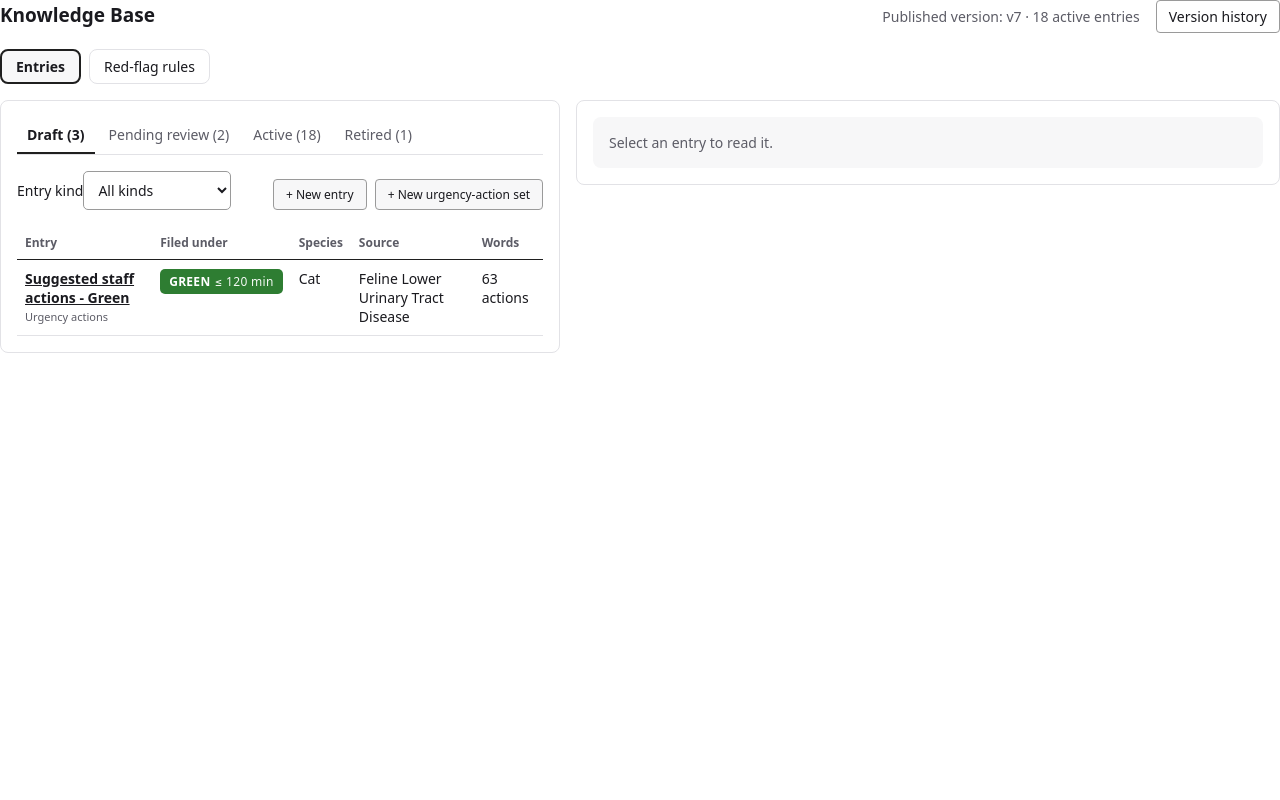
Test: retiring (FR-53, FR-54, FR-72, IR-08) › confirms first and reports the fallback warning
Step 1. Click the button "Suggested staff actions - Green" → (85,288), box [25,269,144,307]
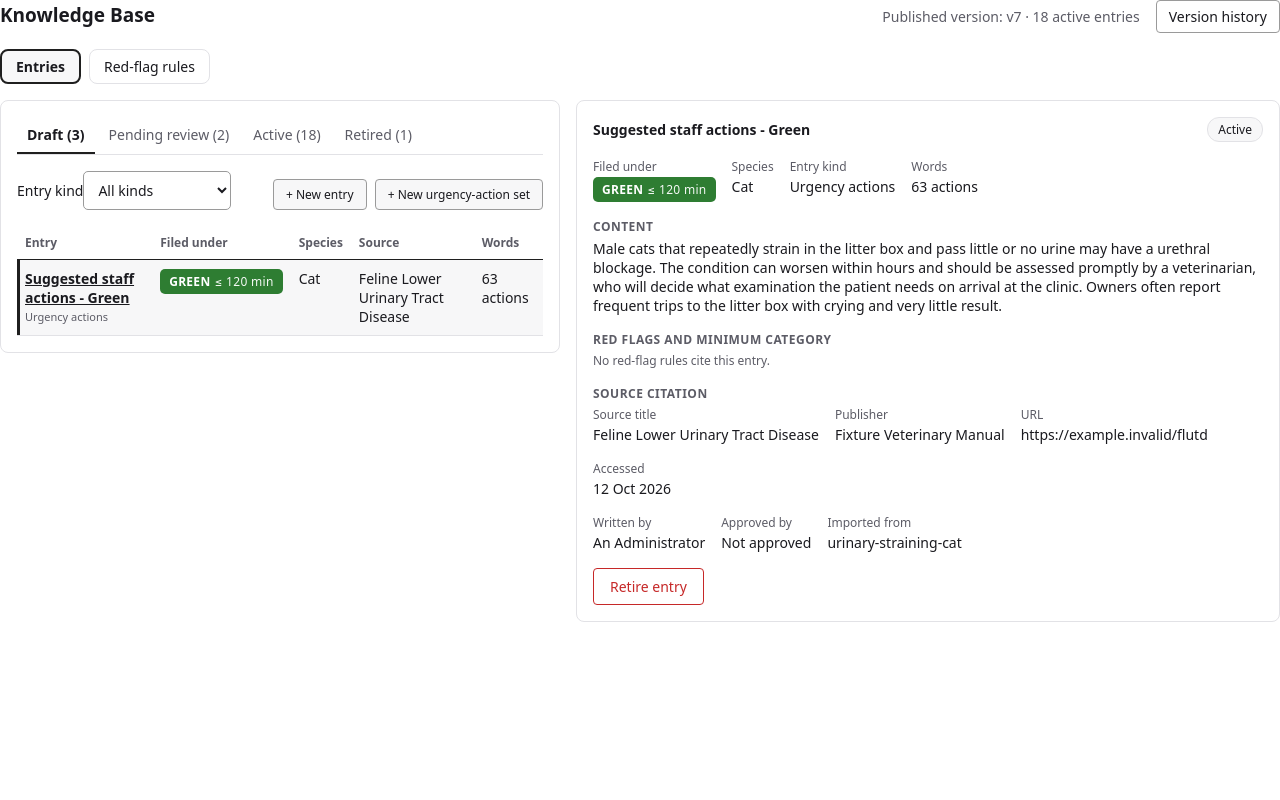
Step 2. Click the button "Retire entry" → (648,586), box [593,568,704,605]
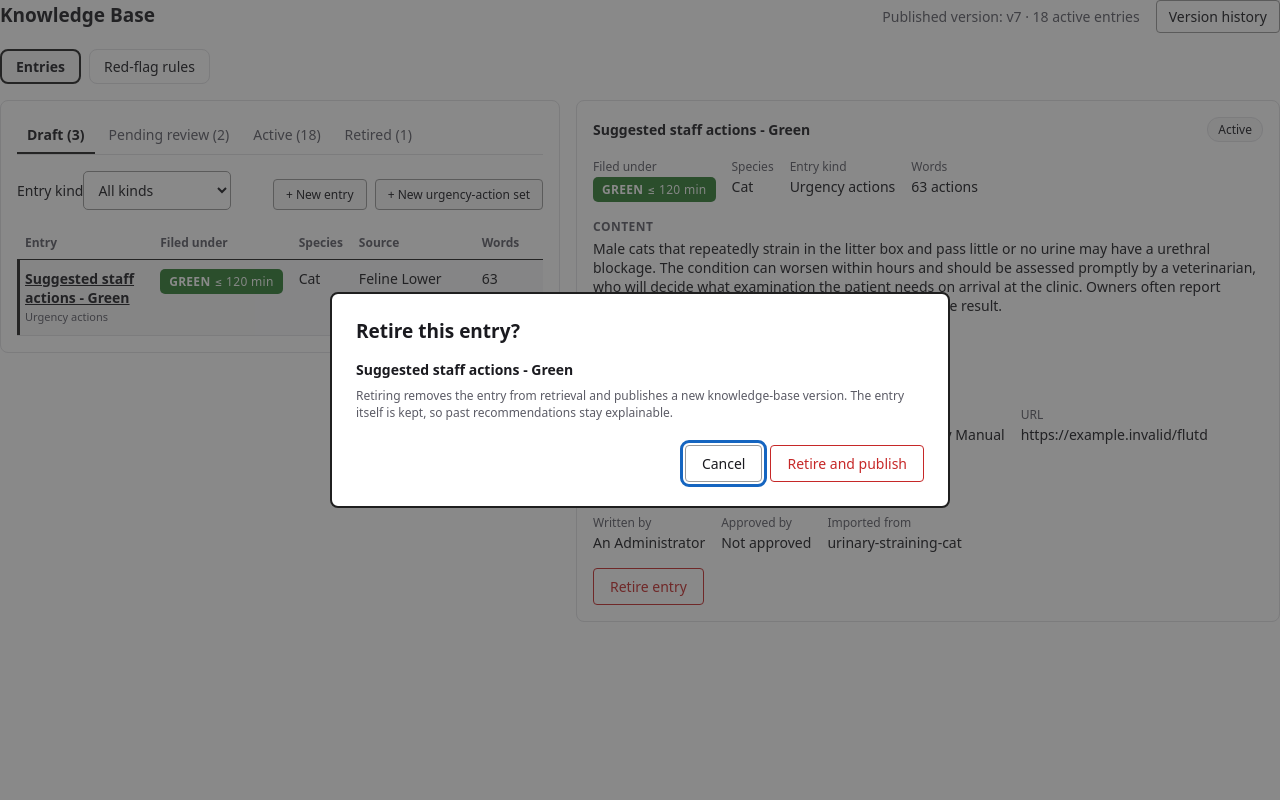
Step 3. Click the button "Retire and publish" → (847,464), box [770,445,924,482]
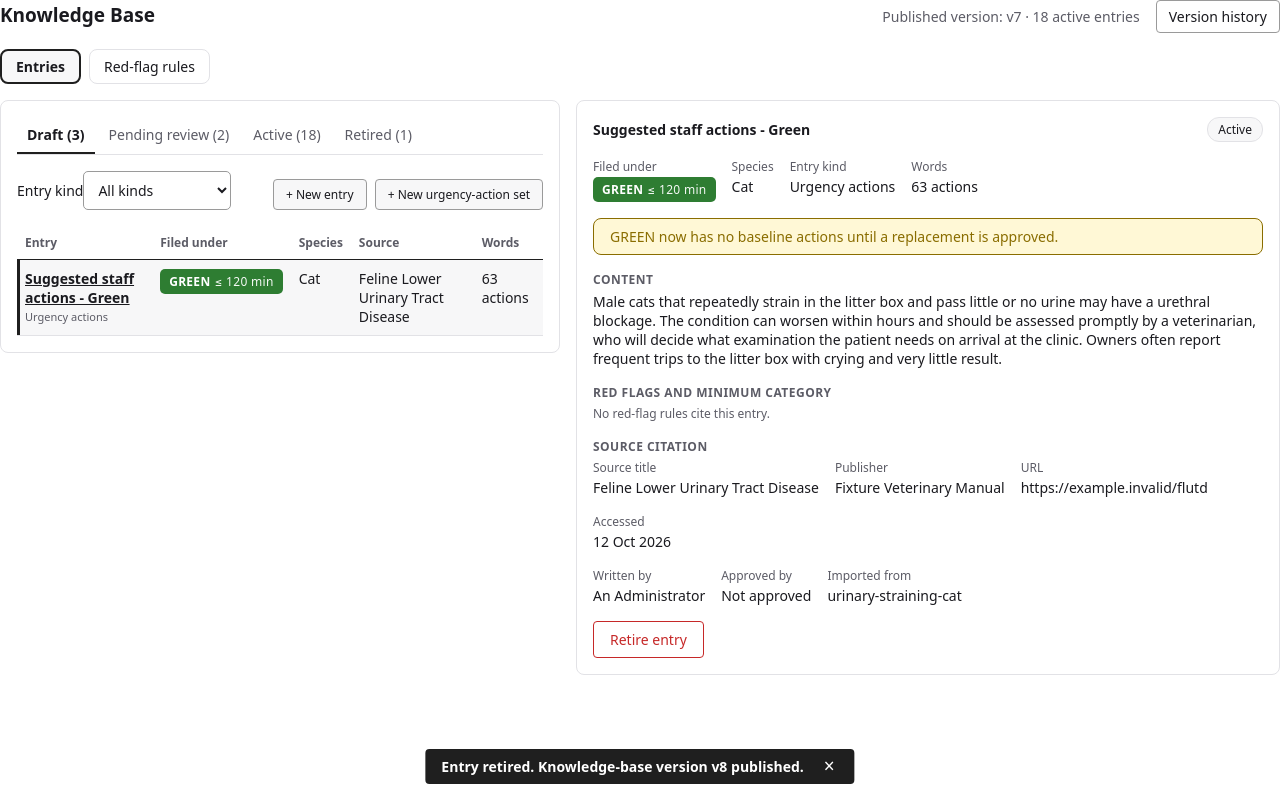
Expected: the text "GREEN now has no baseline actions until a replacement is approved." is shown, [593,218,1263,255]
